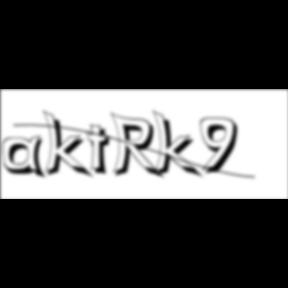9: (200, 117, 246, 177)
R: (110, 112, 168, 182)
a: (3, 135, 51, 182)
k: (42, 108, 96, 181), (152, 108, 206, 181)
t: (86, 124, 118, 179)
